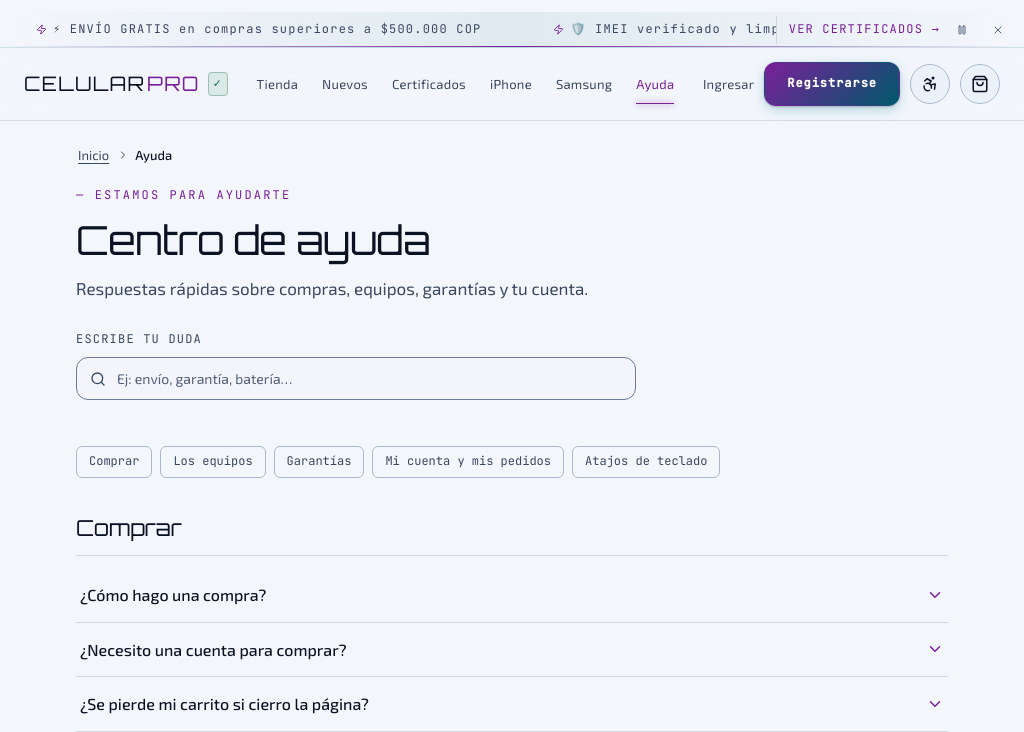
Test: Centro de ayuda › el buscador filtra las preguntas y avisa cuando ninguna coincide
Type "garantía" into the search field.
click(356, 379); type("garantía")  # box left=76, top=357, right=636, bottom=400
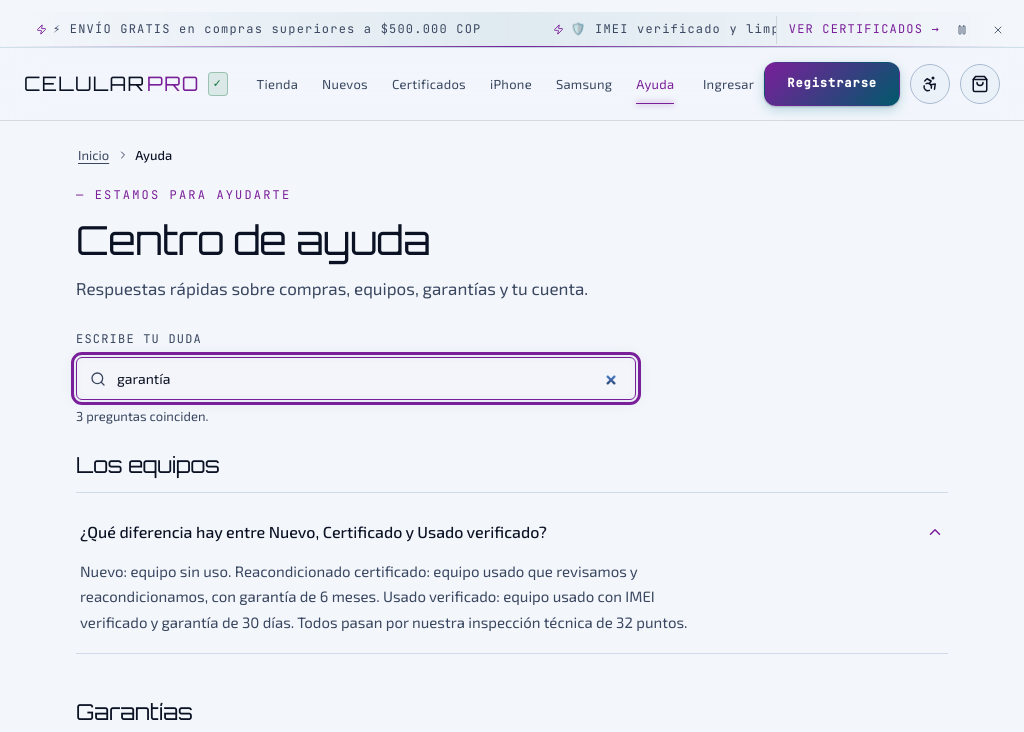
Replace the text in the search field with "zzzzqq" at (356, 379), box left=76, top=357, right=636, bottom=400
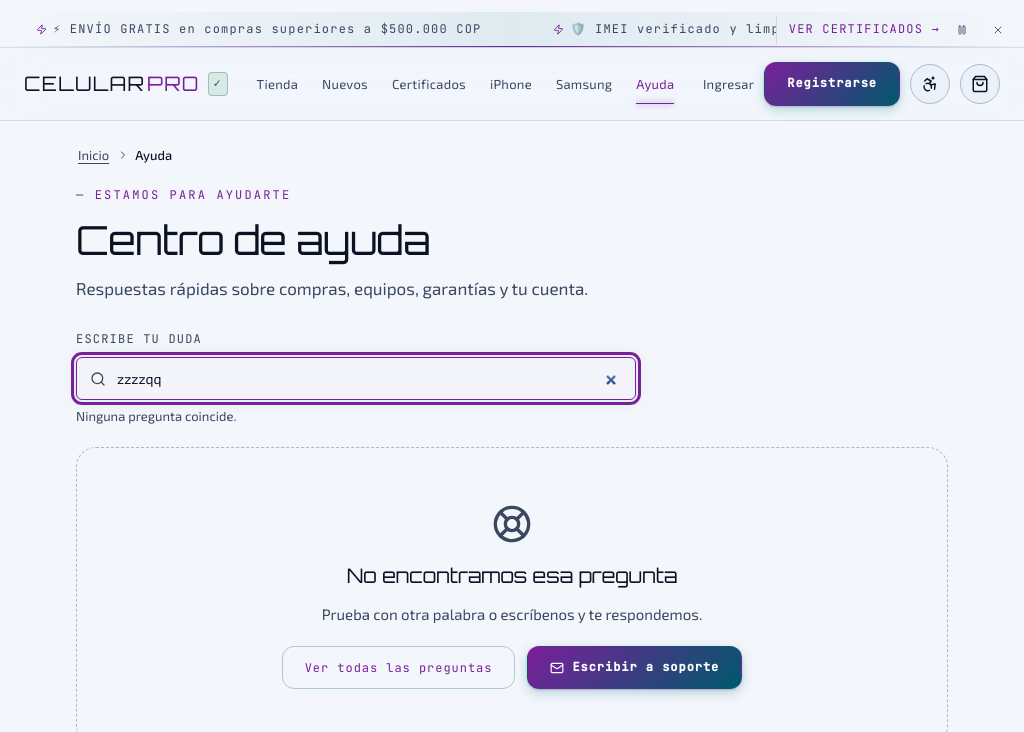
Check: the text with class "cp-help-count" reads "Ninguna pregunta coincide.", box left=76, top=408, right=236, bottom=424
